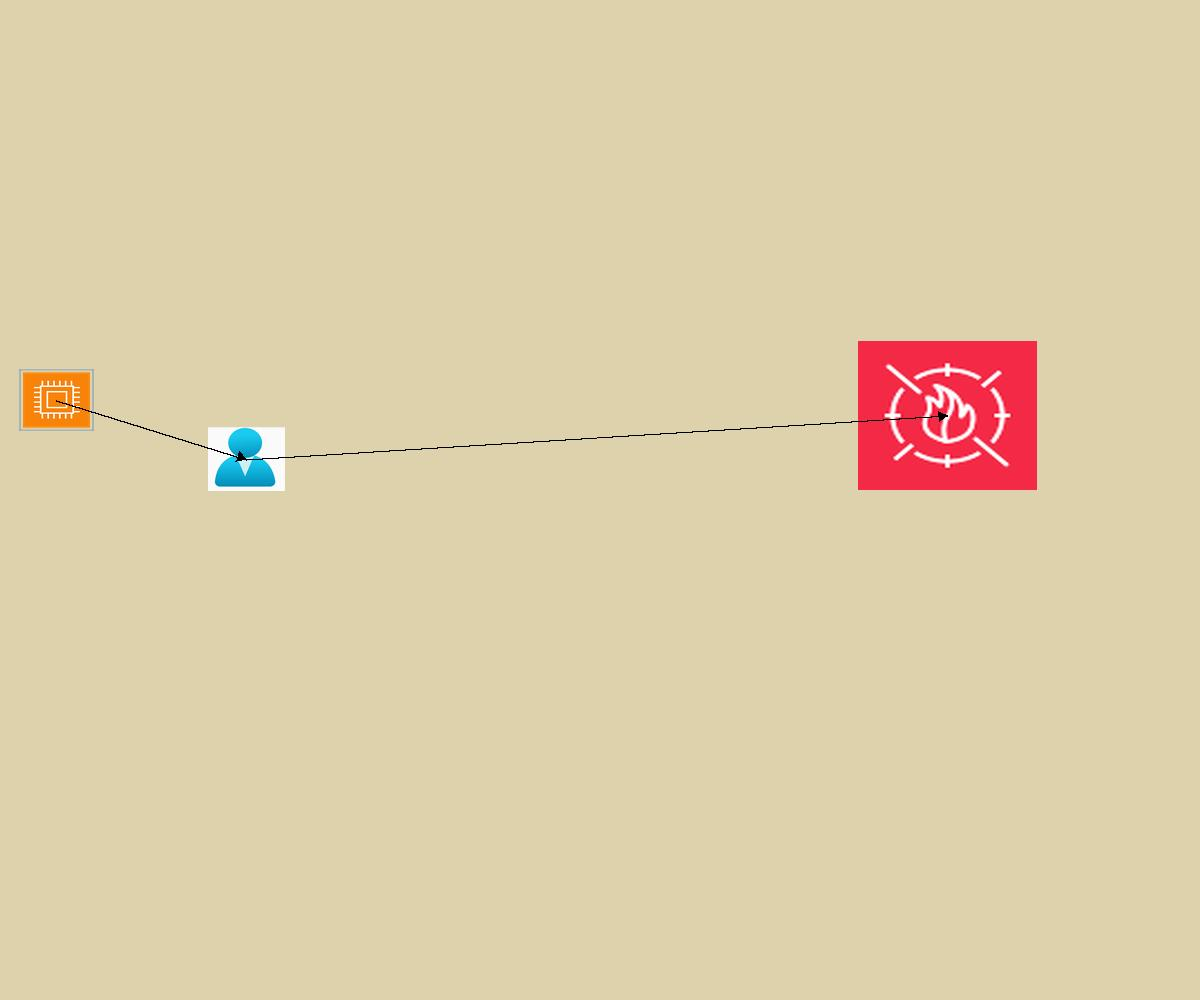AWS-Category_Compute: (19, 369, 94, 431)
AWS-WAF: (858, 341, 1037, 490)
Azure_users: (208, 427, 285, 491)
